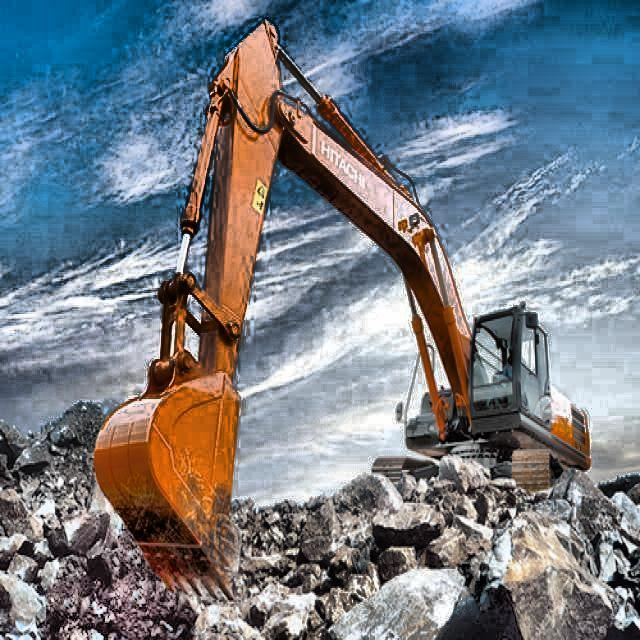excavator: (92, 20, 596, 603)
